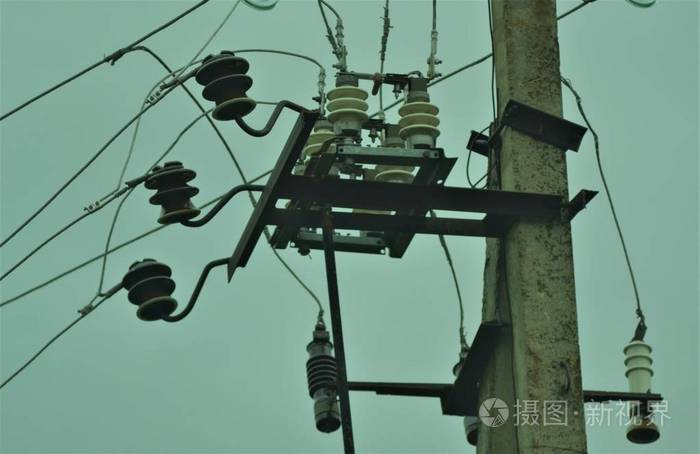insulator: (194, 49, 254, 117), (145, 167, 206, 225), (121, 256, 175, 321), (324, 85, 374, 122), (397, 103, 445, 139), (304, 356, 338, 394)
